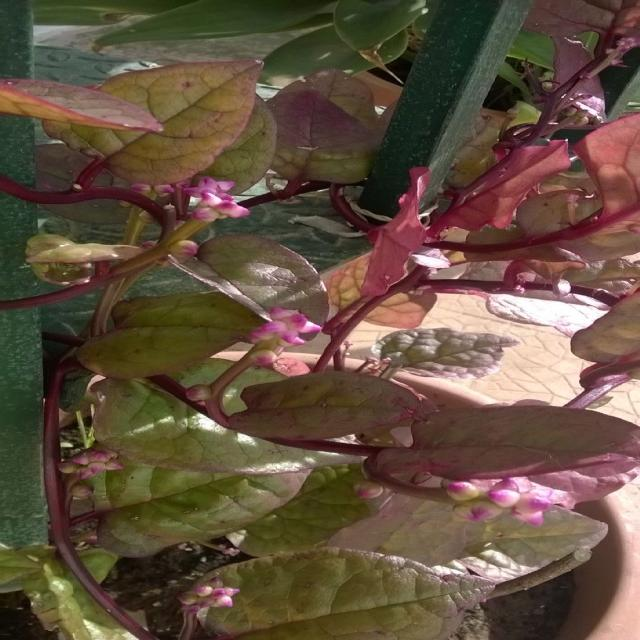Medicinal-Basale: (0, 62, 640, 634)
